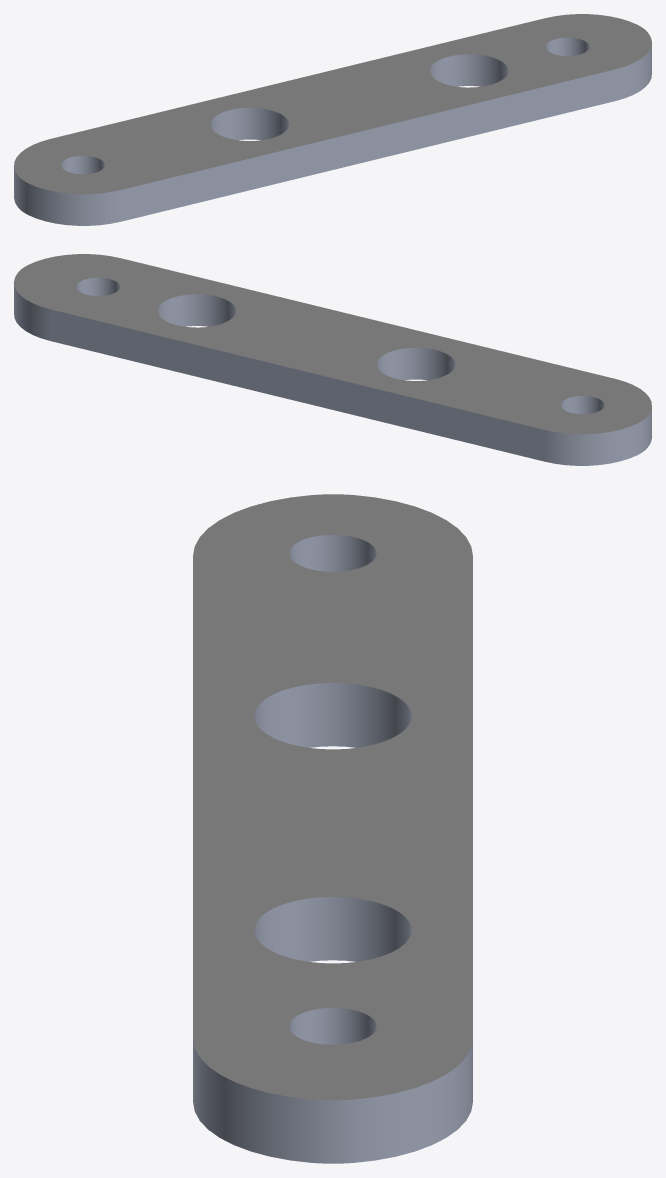
The picture shows the model from 3 angles, top to bottom: view 1: azimuth 30°, elevation 25°; view 2: azimuth 150°, elevation 25°; view 3: azimuth 270°, elevation 25°; orthographic projection. The views are drawn at different scales.
Visible parts, largest first — view 1: ID2; view 2: ID2; view 3: ID2.
Part boxes in pixels (x1,y1,x2,y2): ID2: (14, 14, 651, 225); ID2: (14, 254, 651, 465); ID2: (193, 494, 472, 1163).
Size of the model in its own units: 0.0819 by 0.016 by 0.004.
